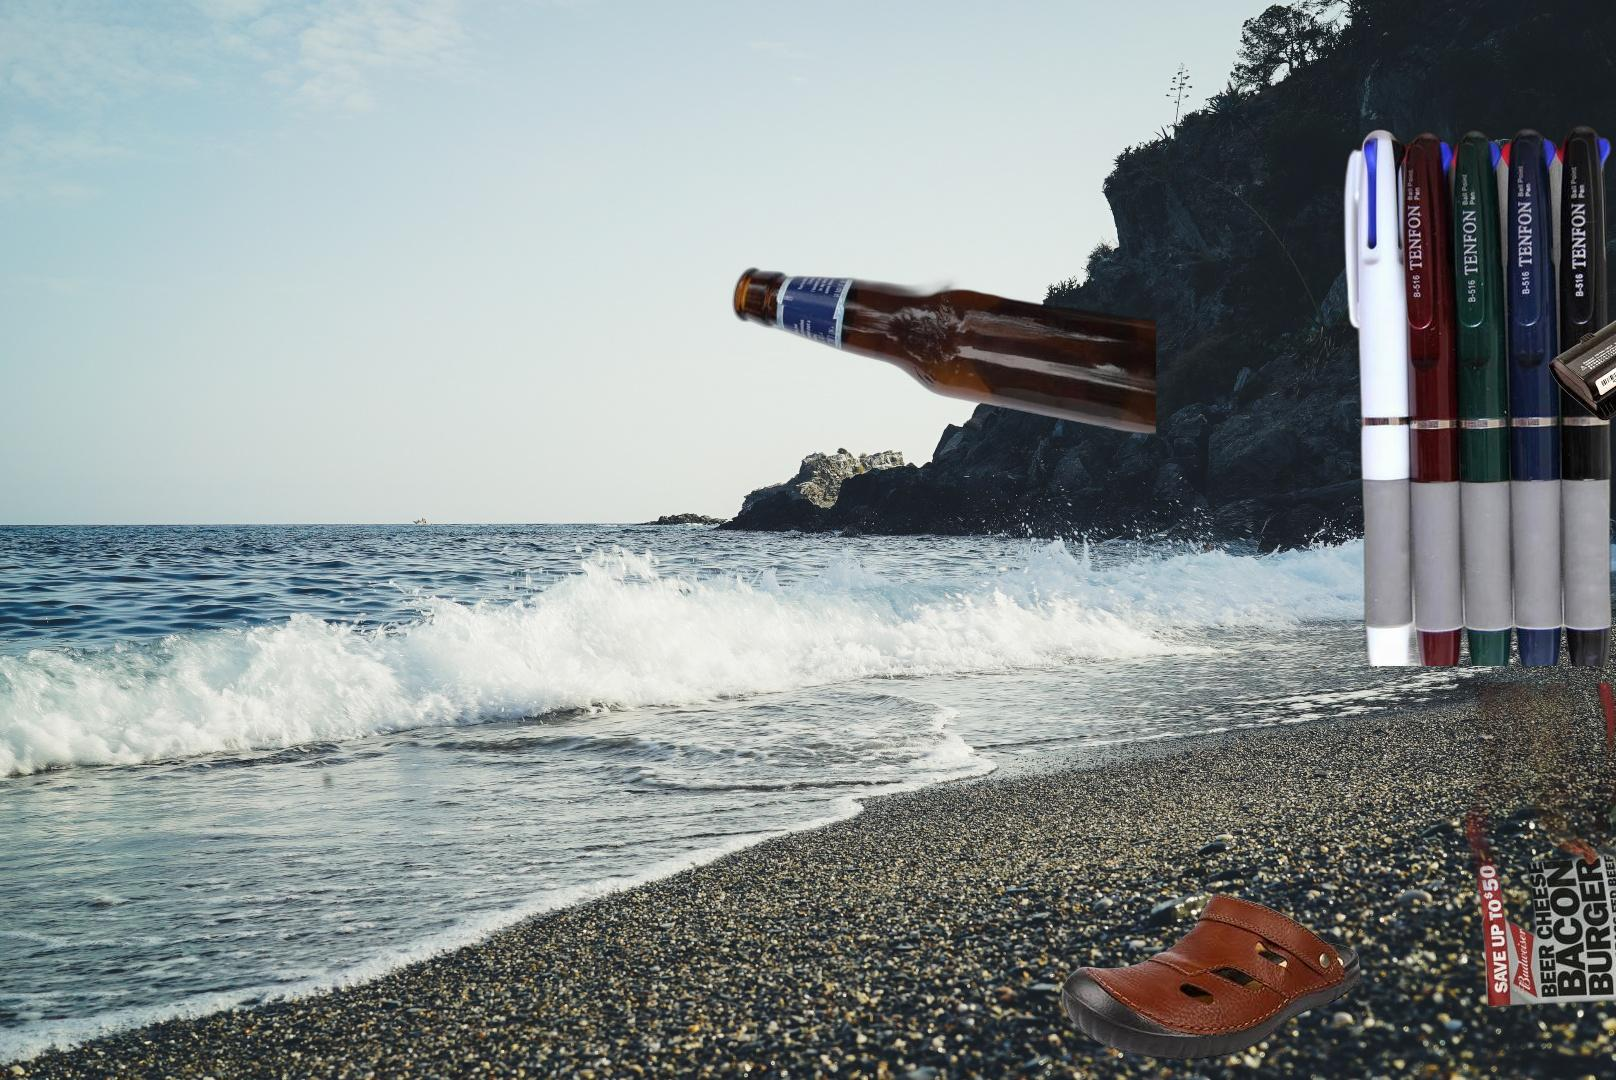battery: (1549, 229, 1616, 421)
glass: (728, 266, 1156, 439)
paper: (1459, 683, 1616, 1011)
penholder: (1338, 121, 1616, 667)
shoes: (1060, 893, 1361, 1061)
trashbox-cardboard: (1442, 117, 1616, 501)
